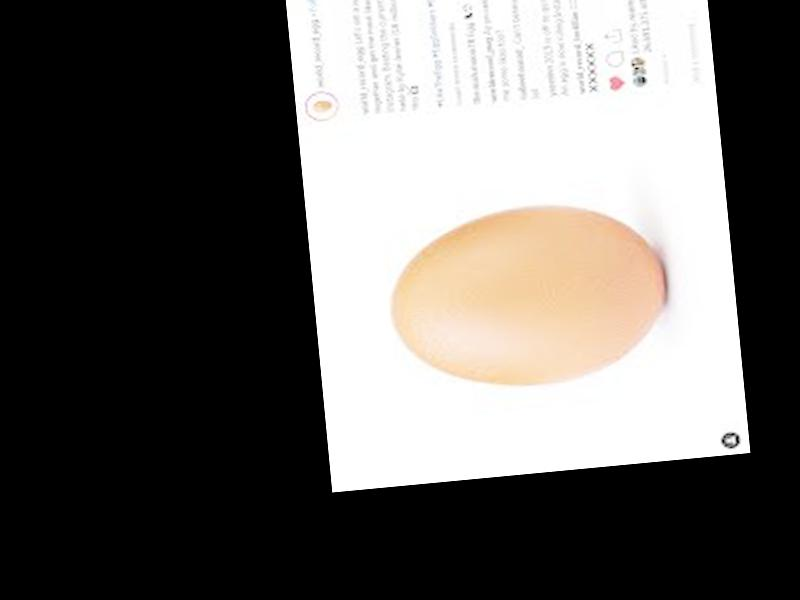Eggs: (384, 195, 670, 397)
